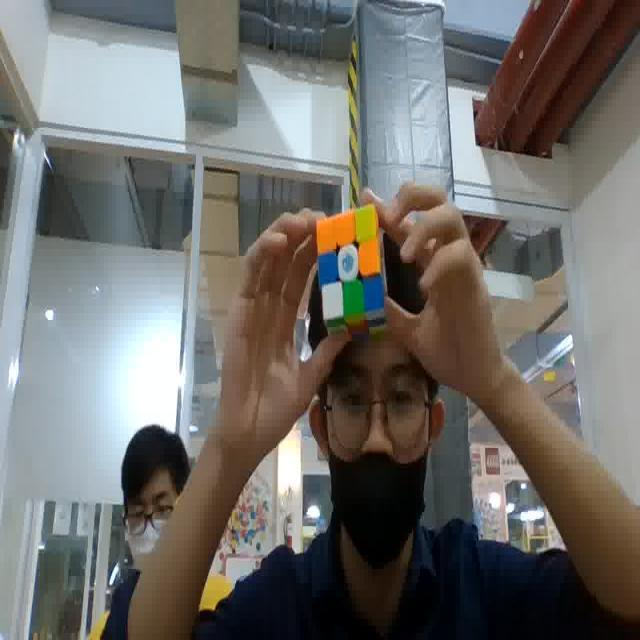Rub: (316, 205, 395, 334)
